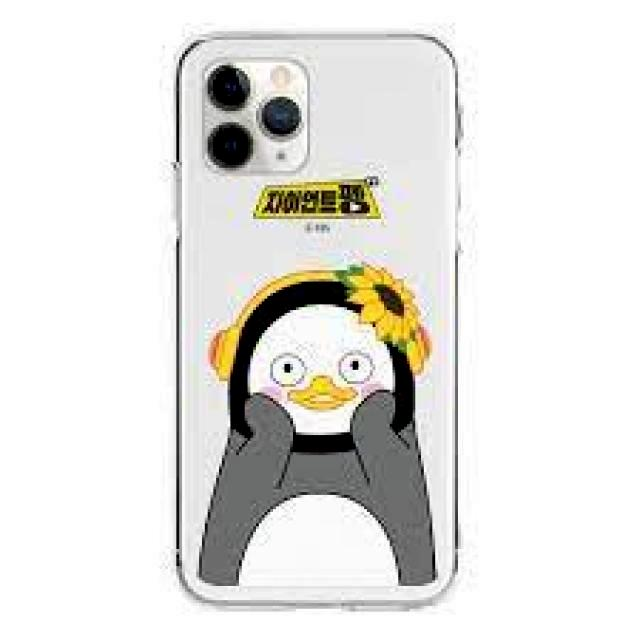lens_back: (252, 90, 310, 144), (202, 57, 254, 117), (202, 122, 257, 171)
phone: (167, 19, 463, 618)
